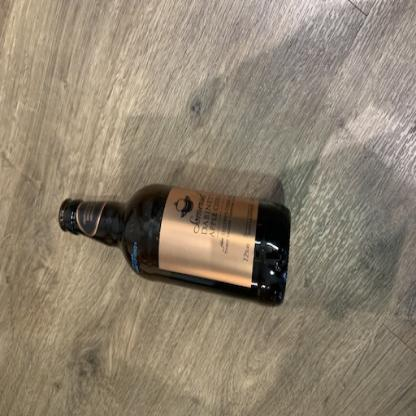trash: (53, 181, 295, 309)
